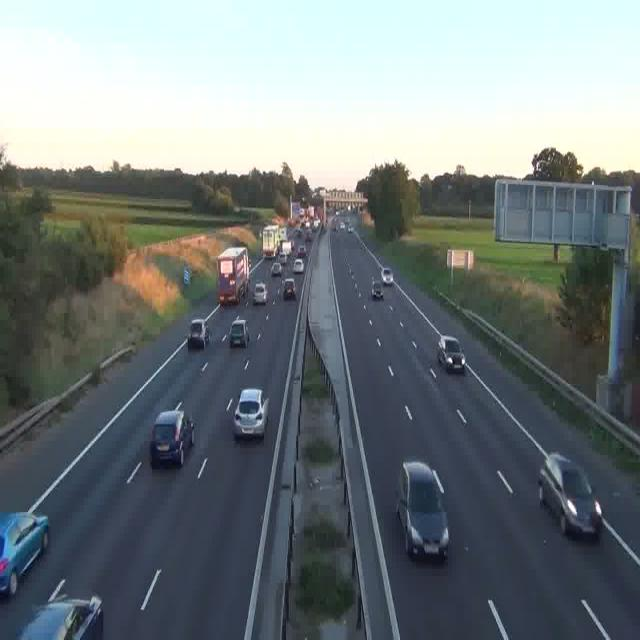bus: (263, 224, 283, 260)
car: (538, 454, 602, 540), (396, 461, 449, 560), (0, 512, 49, 596), (15, 595, 103, 640), (150, 408, 194, 467), (234, 389, 268, 439), (437, 334, 465, 372), (187, 320, 209, 349), (230, 317, 250, 346), (252, 282, 268, 303), (283, 278, 297, 299), (371, 280, 383, 299), (382, 266, 394, 284), (270, 260, 282, 274), (293, 258, 304, 273), (296, 245, 305, 258)
truck: (216, 247, 248, 304)
